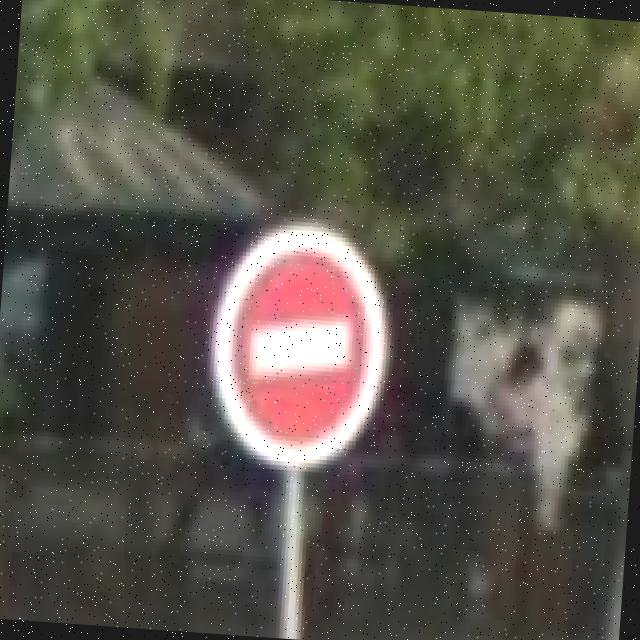Zakaz wjazdu: (196, 207, 403, 481)
